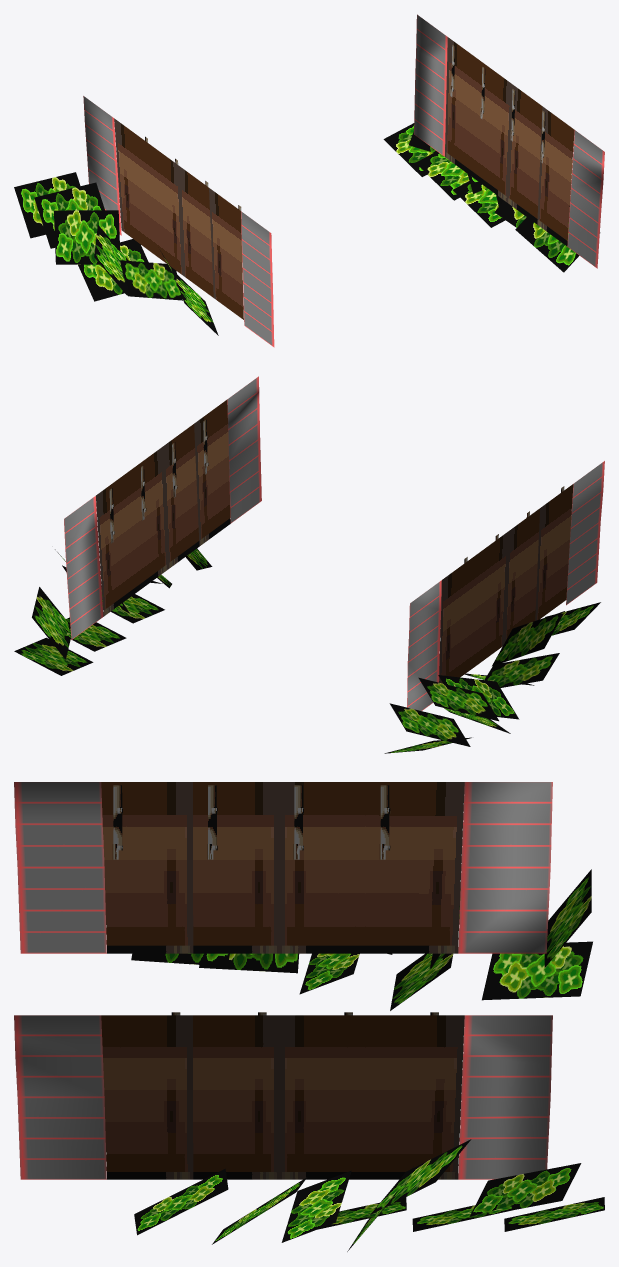
3 renders of one model, top to bottom at view 1: azimuth 30°, elevation 25°; view 2: azimuth 150°, elevation 25°; view 3: azimuth 270°, elevation 25°, orthographic. The views are drawn at different scales.
Parts seen in each view (by area): view 1: l00_kb6; view 2: l00_kb6; view 3: l00_kb6.
Part boxes in pixels (x1,y1,x2,y2): l00_kb6: (14,14,604,347); l00_kb6: (14,376,604,753); l00_kb6: (14,782,604,1251).
Size of the model in its own units: 8.89 by 2.85 by 6.85.
Materials: 5 (5 with a texture image).
